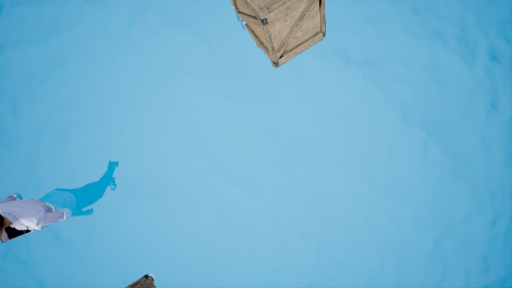person: (1, 166, 122, 243)
